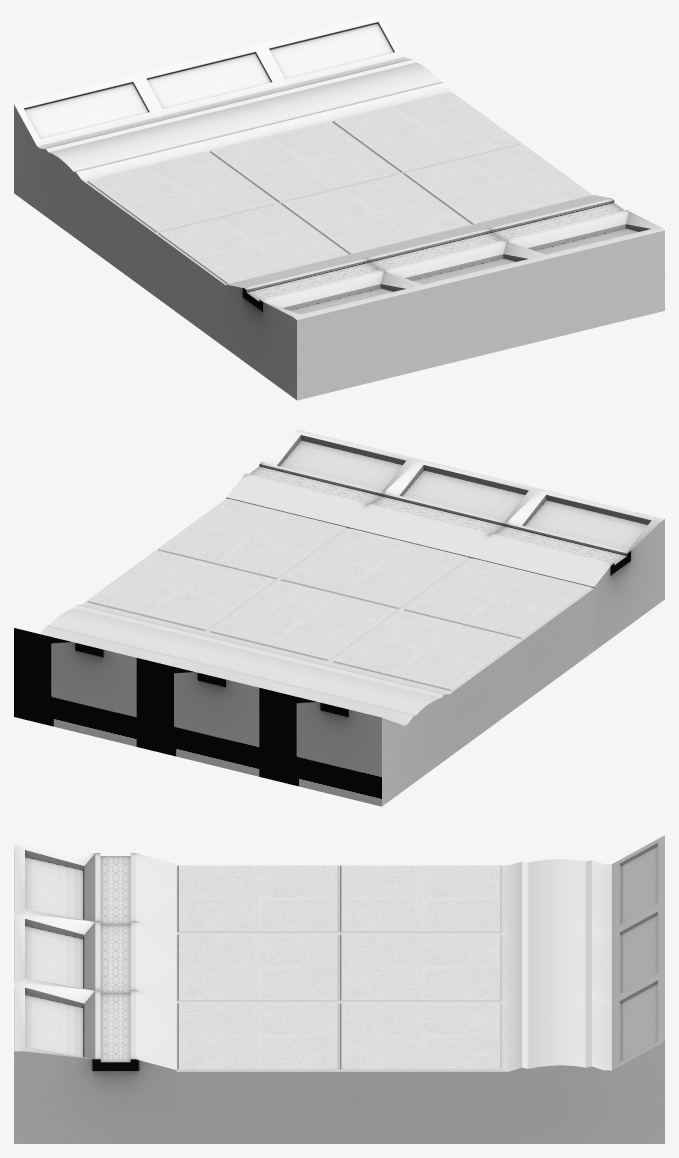
File: WallSolid_3_2.fbx
3 views of the same model, one above another, from view 1: azimuth 30°, elevation 25°; view 2: azimuth 150°, elevation 25°; view 3: azimuth 270°, elevation 25° (orthographic). The views are drawn at different scales.
Visible parts, largest first — view 1: Wall_solid_3_2; view 2: Wall_solid_3_2; view 3: Wall_solid_3_2.
Part boxes in pixels (x1,y1,x2,y2): Wall_solid_3_2: [14, 14, 664, 400]; Wall_solid_3_2: [14, 429, 664, 806]; Wall_solid_3_2: [14, 835, 664, 1143].
Bounding box in the file's own units: 3 × 0.6947 × 4.
